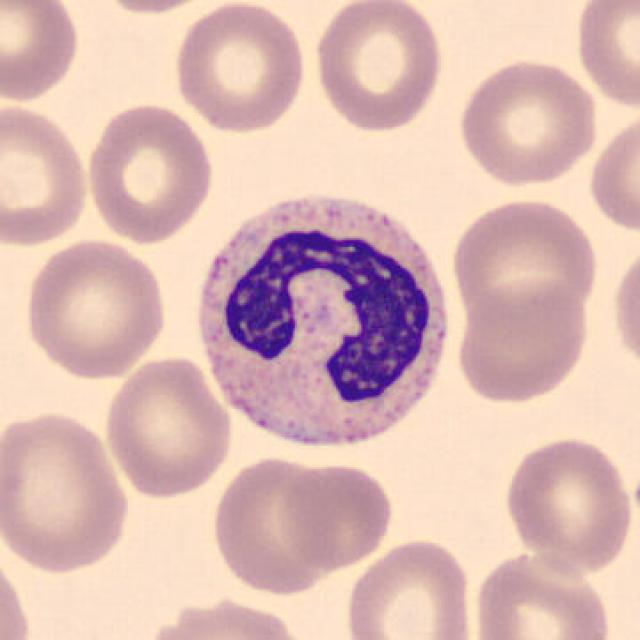Neutrophil: (183, 182, 459, 467)
RBC: (0, 406, 135, 576), (446, 194, 603, 335), (20, 234, 170, 381), (100, 352, 236, 500), (453, 54, 603, 188), (82, 99, 218, 245), (208, 453, 343, 598), (500, 432, 634, 578), (171, 0, 309, 136), (309, 0, 446, 134), (452, 278, 594, 406), (342, 534, 478, 640), (0, 98, 92, 250), (276, 458, 396, 573), (469, 548, 615, 640), (0, 0, 84, 106), (142, 592, 313, 640), (570, 0, 640, 113), (585, 106, 640, 236), (608, 238, 640, 381), (0, 545, 36, 640), (90, 0, 228, 16)
